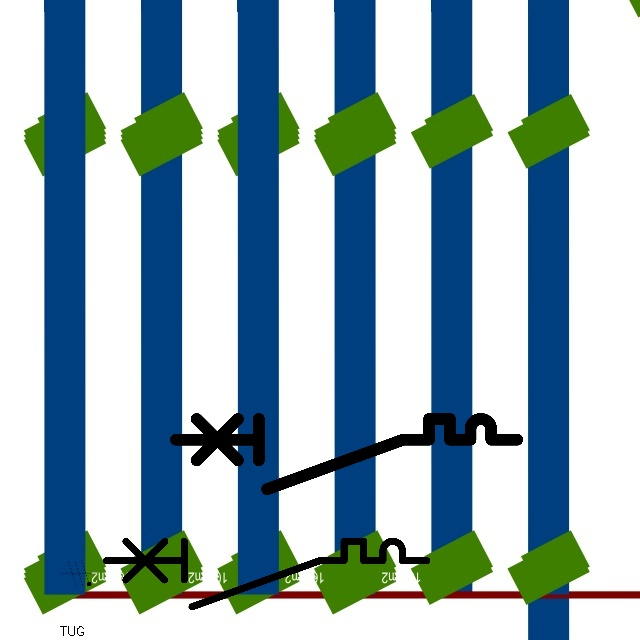interruptor_termomagnetico: (167, 410, 526, 498), (98, 533, 435, 615)
